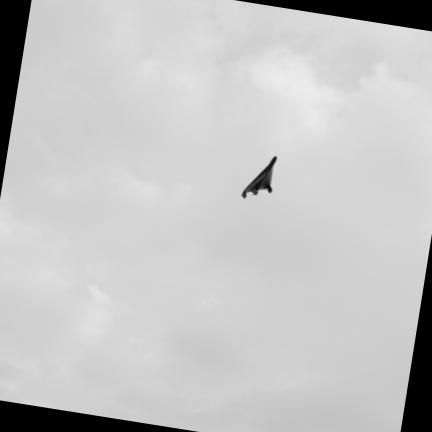Shahed: (243, 157, 277, 198)
